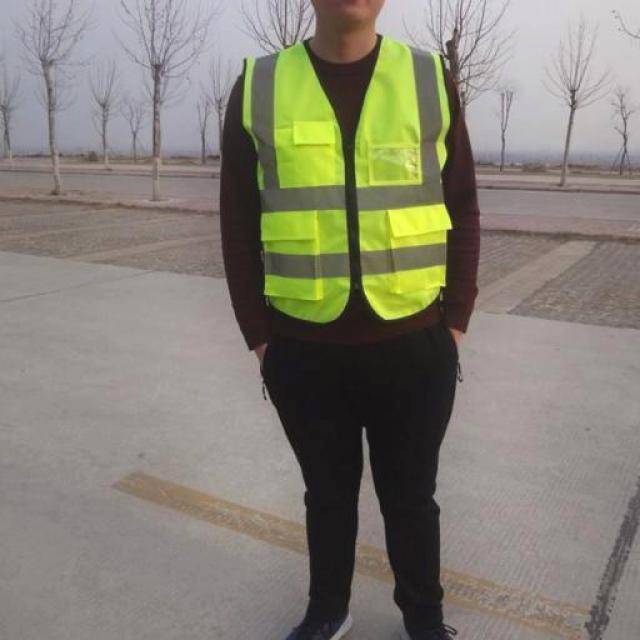person: (231, 0, 494, 640)
vest: (234, 45, 454, 331)
